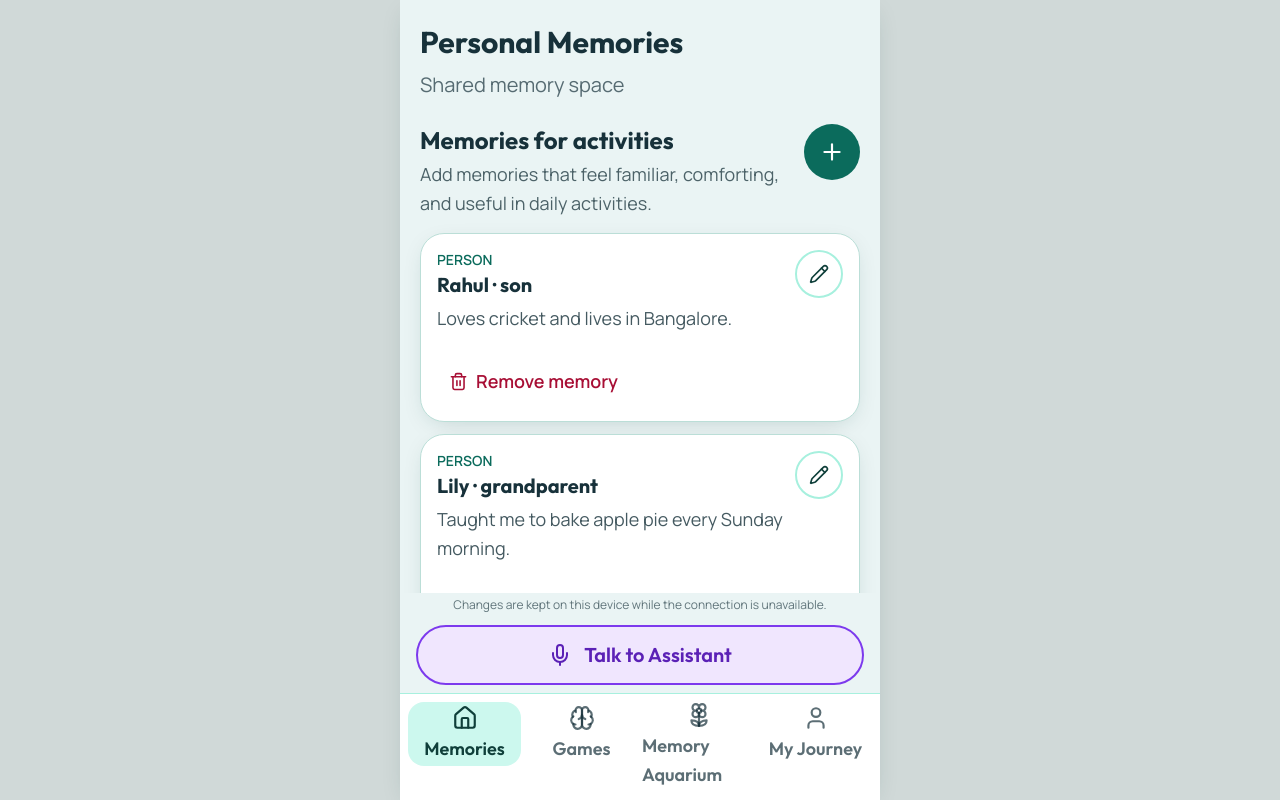
Test: App shell + assistant toolbar › closes with the Close button and with Escape
This screenshot has width=1280, height=800.
Click the button "Talk to Assistant" at (640, 655), box [416, 625, 864, 685]
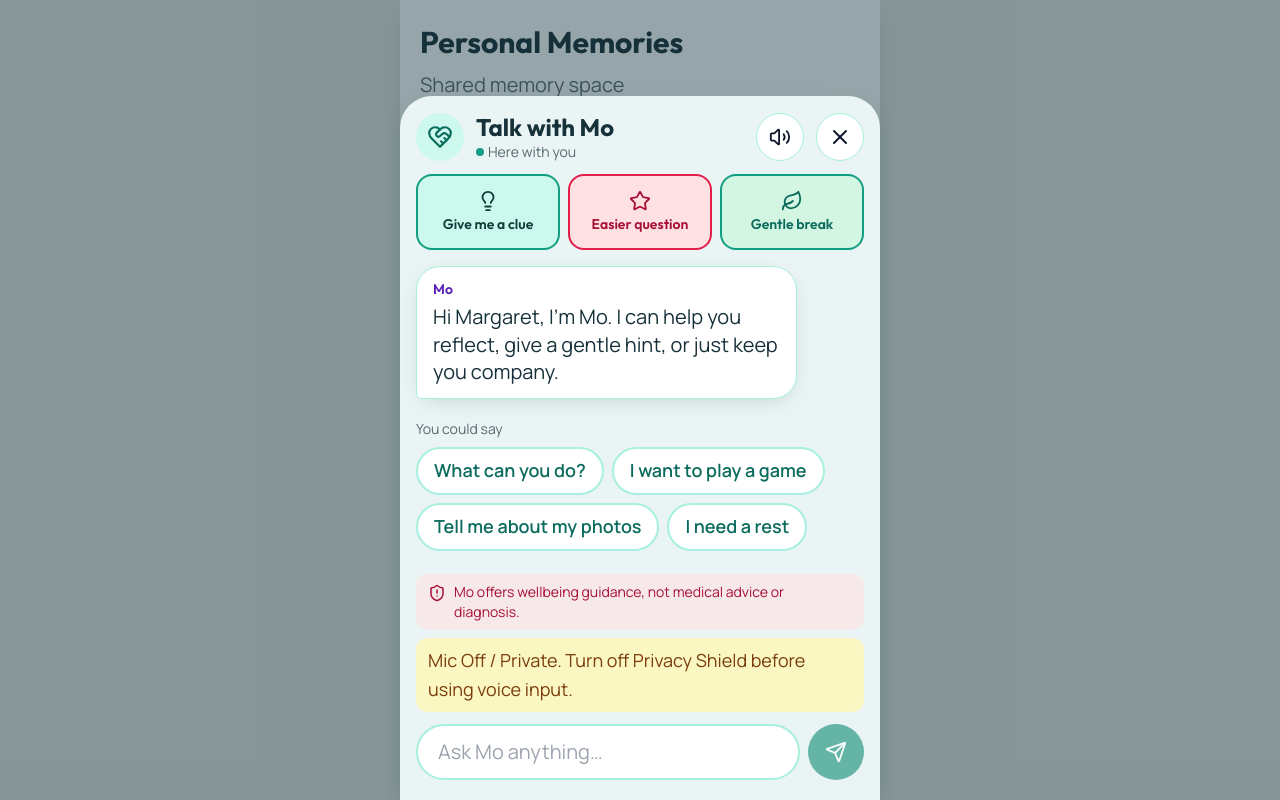
Click the button named "Close assistant" at (840, 137), box [816, 113, 864, 161]
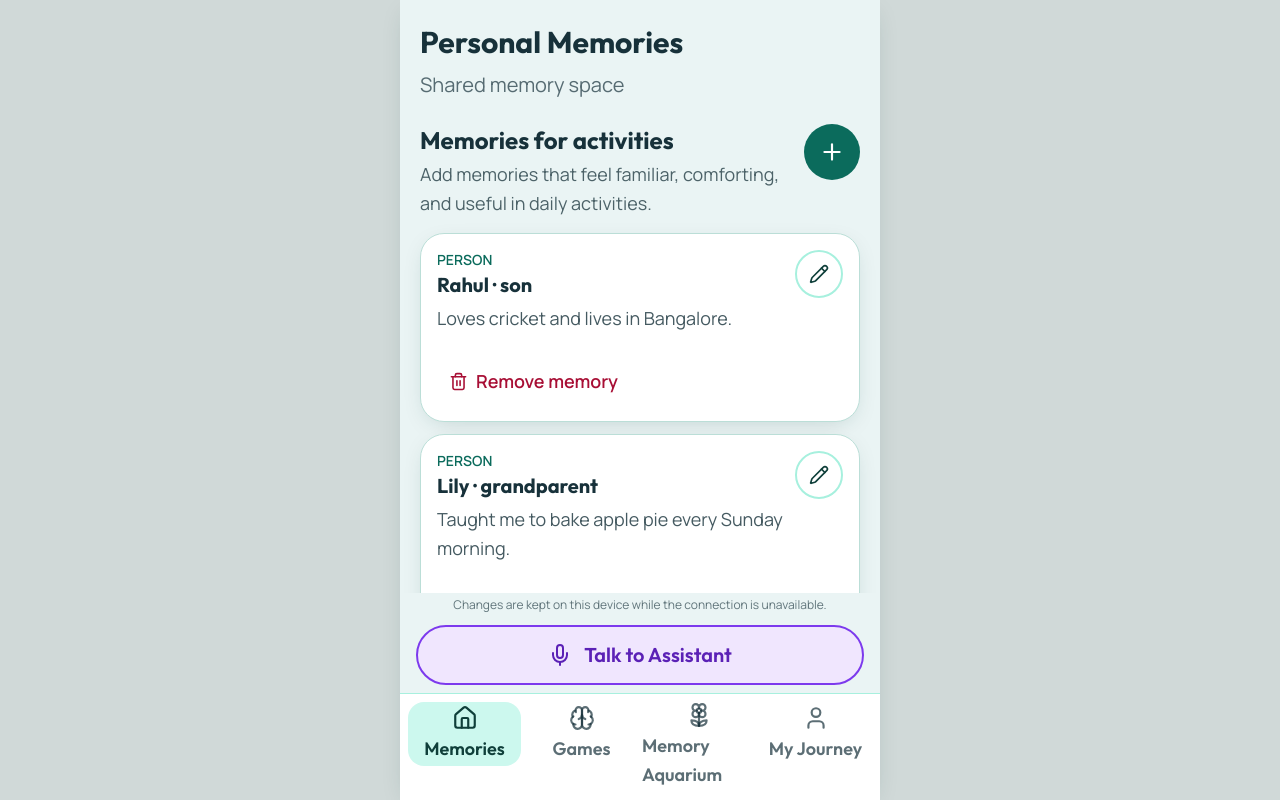
Check: the dialog is gone
Click the button "Talk to Assistant" at (640, 655), box [416, 625, 864, 685]
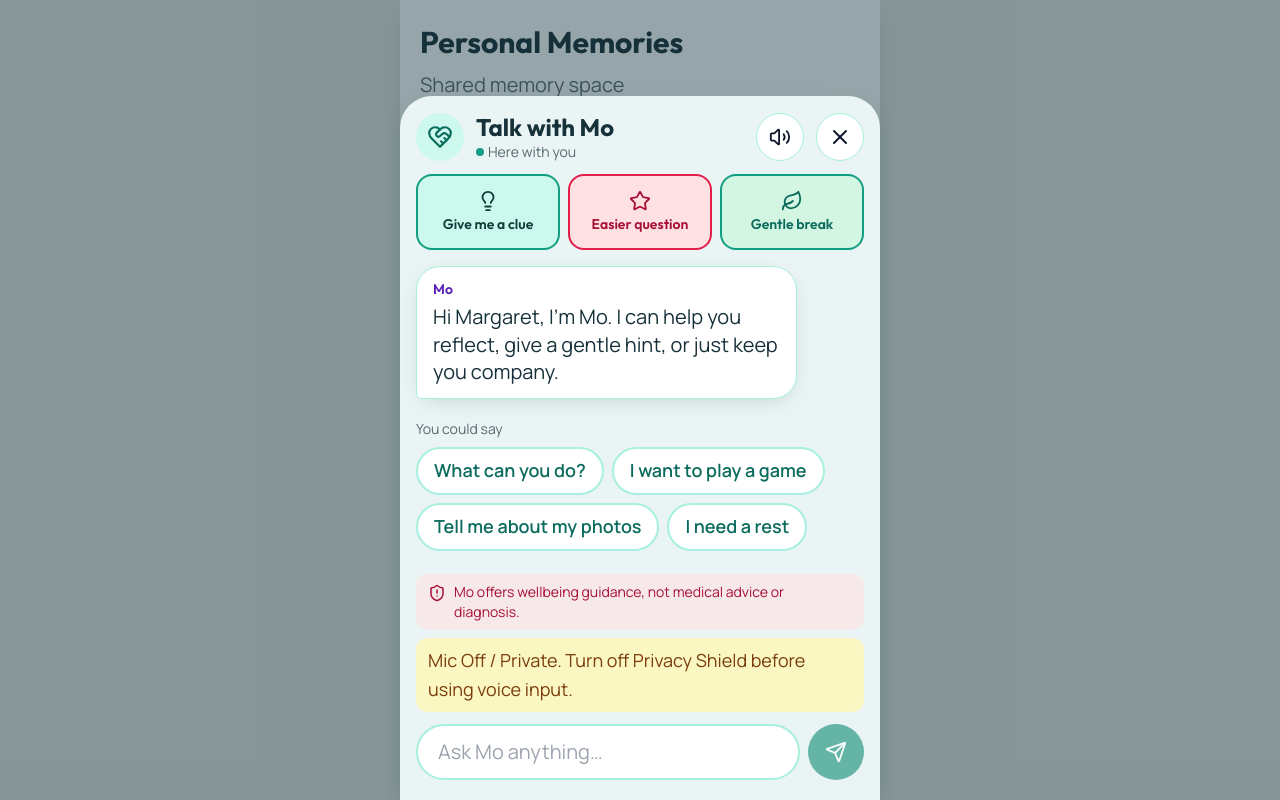
Press Escape
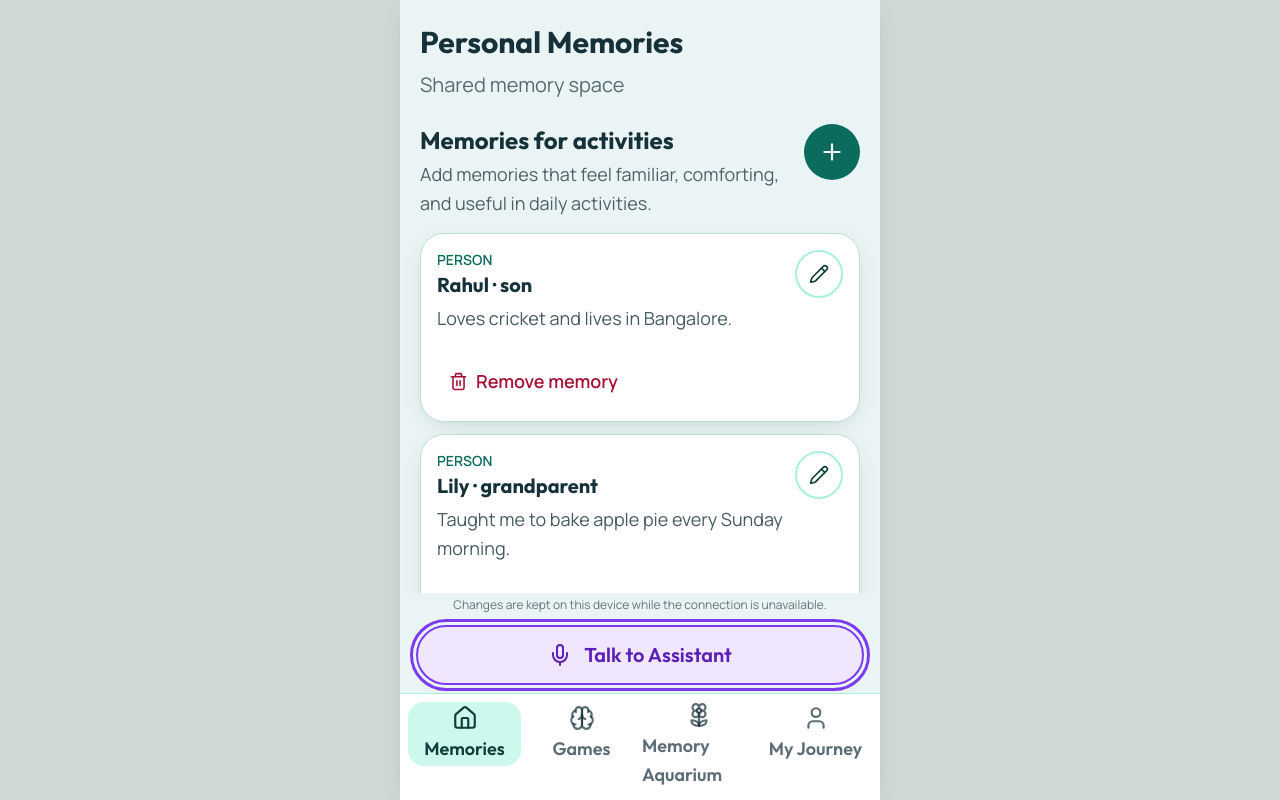
Check: the dialog is gone
